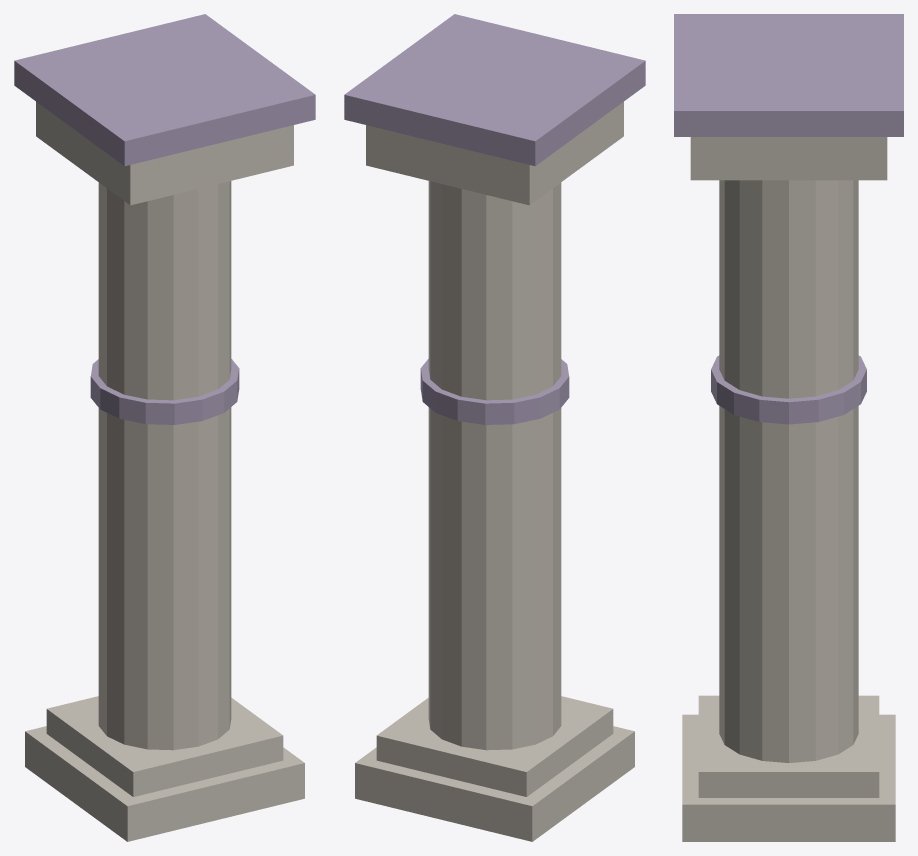
The model's file is pillar.glb.
The picture shows the model from 3 angles, left to right: view 1: azimuth 30°, elevation 25°; view 2: azimuth 150°, elevation 25°; view 3: azimuth 270°, elevation 25°; orthographic projection. The views are drawn at different scales.
Visible parts, largest first — view 1: pillar; view 2: pillar; view 3: pillar.
Boxes of the visible parts, x1,y1,x2,y2 form: pillar: [14, 14, 315, 841]; pillar: [344, 14, 645, 841]; pillar: [674, 14, 903, 841].
Bounding box in the file's own units: 2.8 × 9.88 × 2.8.
